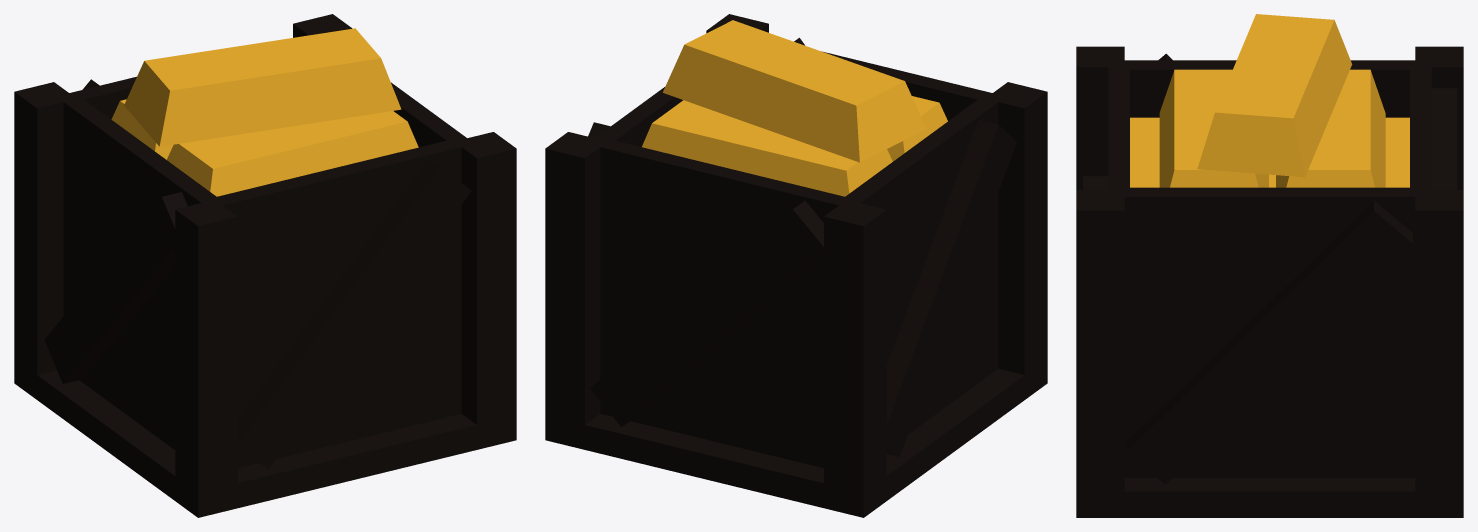
File: Crate Gold.FBX
3 renders of one model, left to right at view 1: azimuth 30°, elevation 25°; view 2: azimuth 150°, elevation 25°; view 3: azimuth 270°, elevation 25°, orthographic. The views are drawn at different scales.
Visible parts, largest first — view 1: Box225; view 2: Box225; view 3: Box225.
Boxes of the visible parts, x1,y1,x2,y2 form: Box225: (14, 14, 516, 517); Box225: (545, 14, 1047, 517); Box225: (1076, 14, 1463, 517).
Size of the model in its own units: 4.51 by 4.75 by 4.51.
